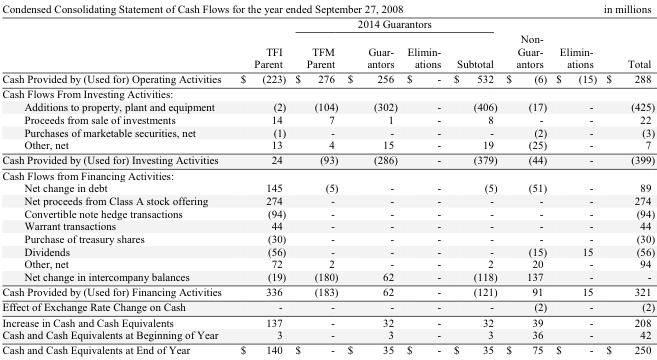table: (1, 1, 654, 356)
table column: (1, 1, 230, 356), (230, 1, 289, 356), (342, 1, 401, 356), (446, 1, 501, 356), (600, 1, 654, 356), (289, 1, 342, 356), (550, 1, 600, 356), (501, 1, 550, 356), (401, 1, 446, 356)
table column header: (1, 1, 654, 71)
table projected row header: (1, 86, 654, 100), (1, 167, 654, 181)
table row: (1, 37, 654, 71), (1, 15, 654, 37), (1, 151, 654, 167), (1, 298, 654, 314), (1, 71, 654, 86), (1, 283, 654, 298), (1, 341, 654, 356), (1, 1, 654, 15), (1, 86, 654, 100), (1, 167, 654, 181), (1, 269, 654, 283), (1, 314, 654, 328), (1, 112, 654, 125), (1, 125, 654, 138), (1, 138, 654, 151), (1, 193, 654, 206), (1, 206, 654, 219), (1, 231, 654, 244), (1, 244, 654, 257), (1, 328, 654, 341), (1, 100, 654, 112), (1, 181, 654, 193), (1, 219, 654, 231), (1, 257, 654, 269)
table spanning cell: (1, 1, 501, 15), (289, 15, 501, 37), (501, 1, 550, 71), (230, 15, 289, 71), (600, 15, 654, 71), (550, 15, 600, 71), (550, 1, 654, 15)
